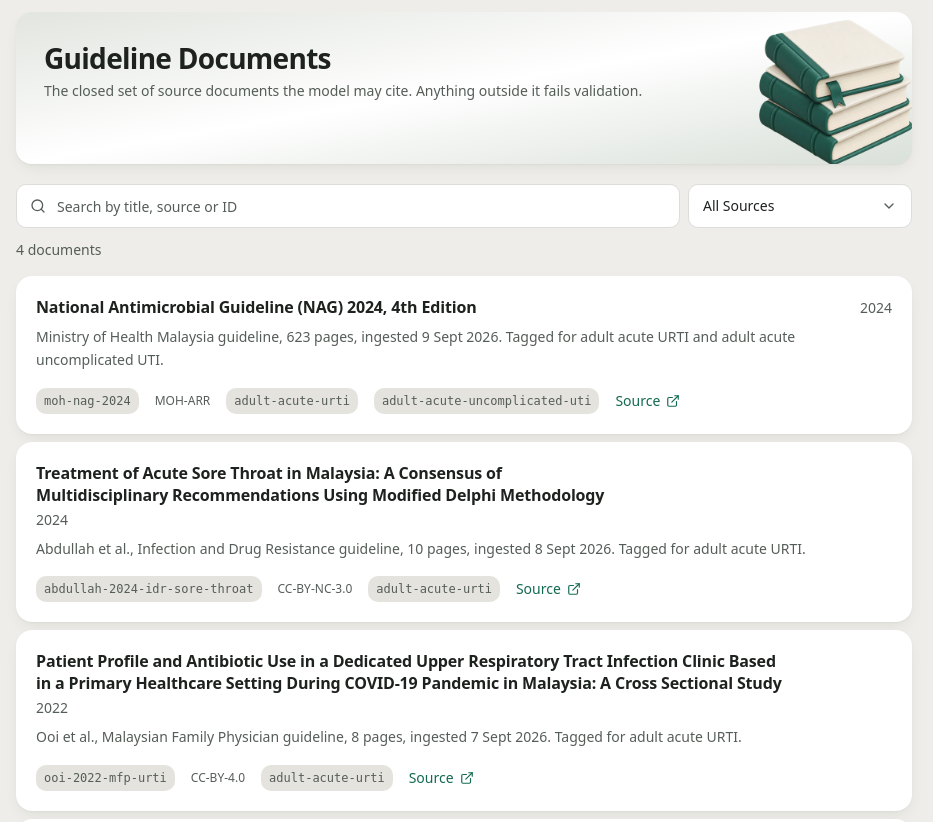
Test: the document list › filters to only Ministry of Health Malaysia documents
Check: the heading "National Antimicrobial Guideline (NAG) 2024, 4th Edition" is shown, box [36, 296, 476, 318]
What coordinates should you click on to do the following:
click the button named "Filter by source"
I would click on:
 (800, 206)
Its box is [688, 184, 912, 228].
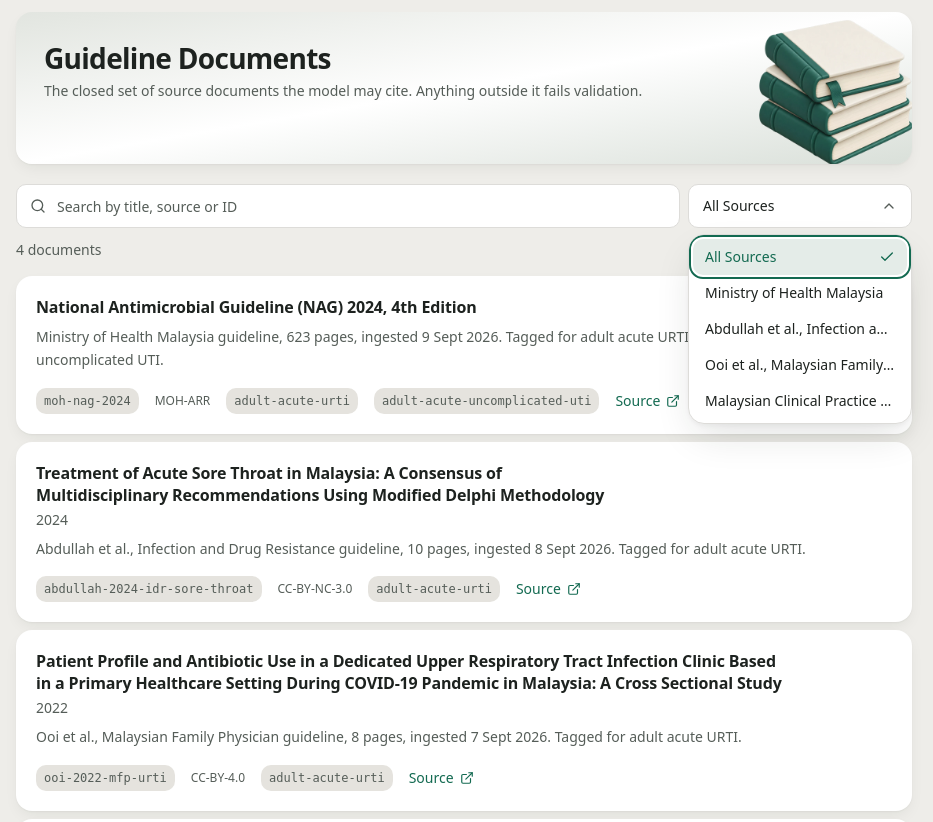
What coordinates should you click on to do the following:
click the option "Ministry of Health Malaysia"
I would click on:
 (794, 292)
Its box is [705, 283, 883, 302].
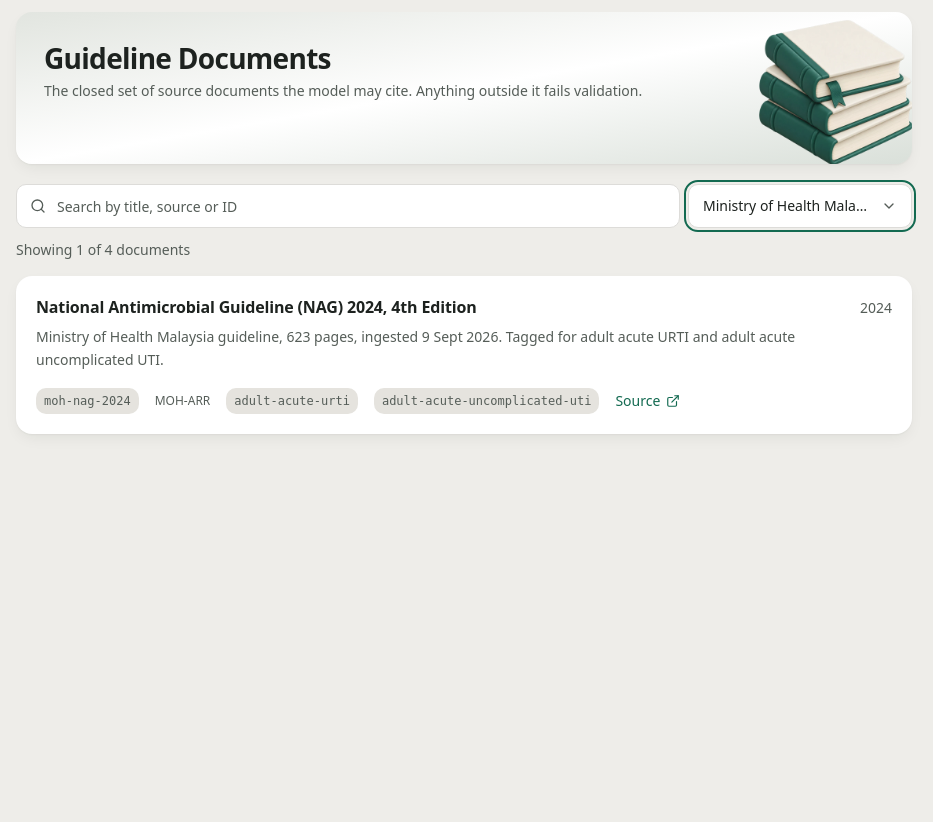
Check: the heading "National Antimicrobial Guideline (NAG) 2024, 4th Edition" is shown, box [36, 296, 476, 318]
Check: the heading "Treatment of Acute Sore Throat in Malaysia: A Consensus of Multidisciplinary Recommendations Using Modified Delphi Metho" is gone
Check: the heading "Patient Profile and Antibiotic Use in a Dedicated Upper Respiratory Tract Infection Clinic Based in a Primary Healthcare" is gone
